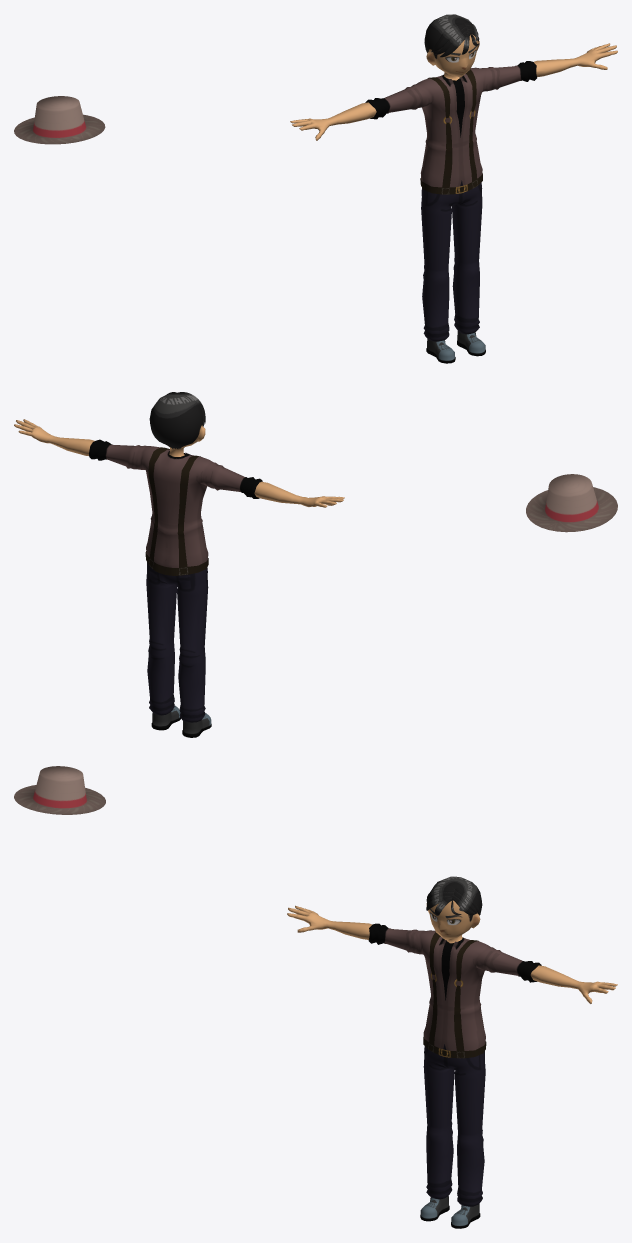
Rendered from model_Personagem1_01.fbx.
3 renders of one model, top to bottom at view 1: azimuth 30°, elevation 25°; view 2: azimuth 150°, elevation 25°; view 3: azimuth 330°, elevation 25°, orthographic.
Visible parts, largest first — view 1: calça, camisa, Mesh sem membro, Circle, camisa.002, Cabelo Male, tênis; view 2: calça, camisa, Mesh sem membro, Circle, camisa.002, tênis; view 3: calça, camisa, Mesh sem membro, Circle, camisa.002, Cabelo Male, tênis.
Part boxes in pixels (x1,y1,x2,y2): calça: (421,180,482,341); camisa: (365,61,536,187); Mesh sem membro: (290,14,617,140); Circle: (14,96,105,144); camisa.002: (420,69,482,194); Cabelo Male: (431,21,479,57); tênis: (426,331,485,363); calça: (146,562,208,722); camisa: (89,439,262,567); Mesh sem membro: (14,392,344,507); Circle: (526,474,617,532); camisa.002: (145,447,208,575); tênis: (151,705,211,737); calça: (423,1044,485,1206); camisa: (368,923,541,1051); Mesh sem membro: (287,876,617,1003); Circle: (14,766,105,814); camisa.002: (423,932,486,1058); Cabelo Male: (426,885,480,915); tênis: (420,1196,480,1228).
Bounding box in the file's own units: 1674 × 921 × 222.
